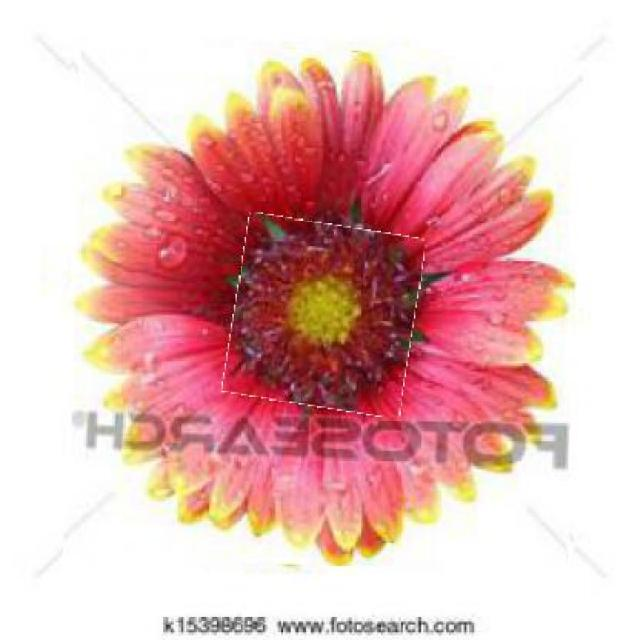Flower: (67, 47, 581, 573), (228, 219, 420, 413)
